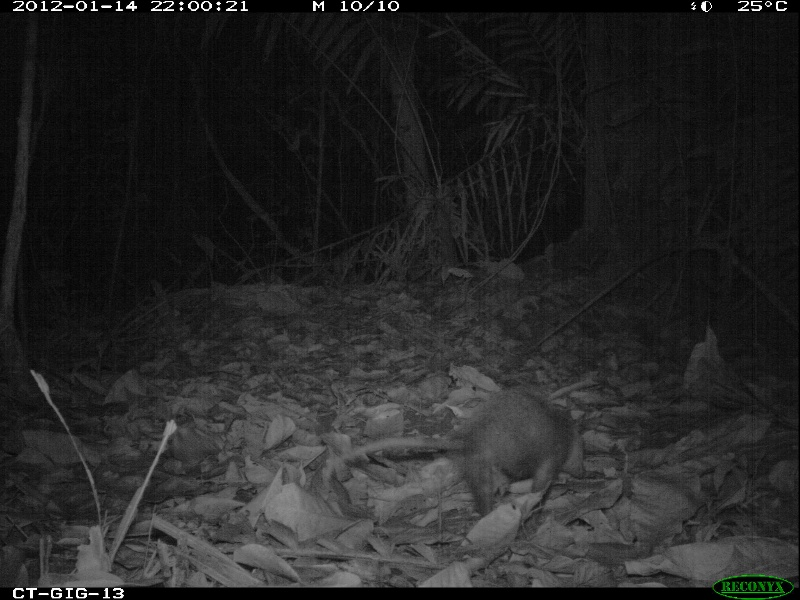opossum: (329, 379, 596, 529)
